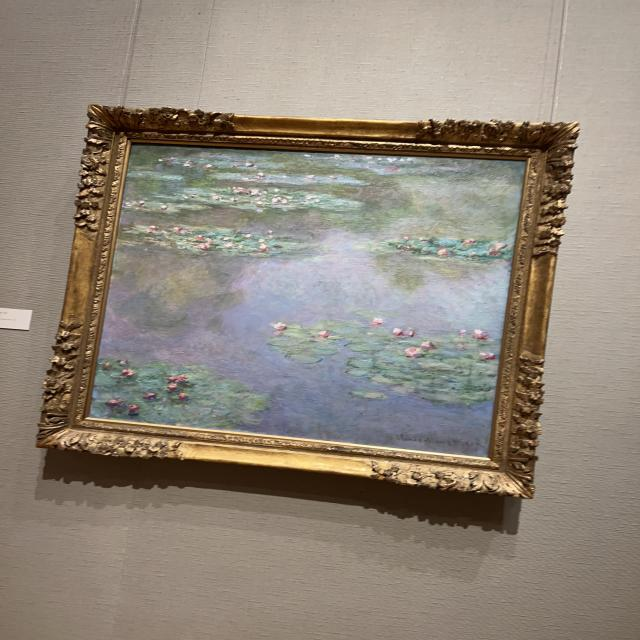lilies: (88, 147, 525, 452)
